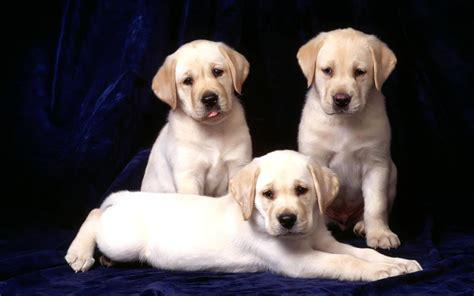dog: (64, 149, 420, 280), (297, 28, 399, 248), (140, 40, 252, 198)
